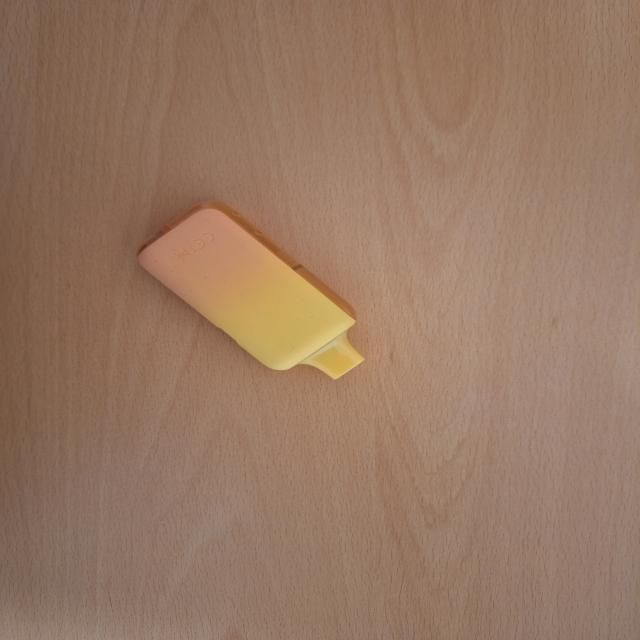Hazard: (135, 199, 366, 381)
